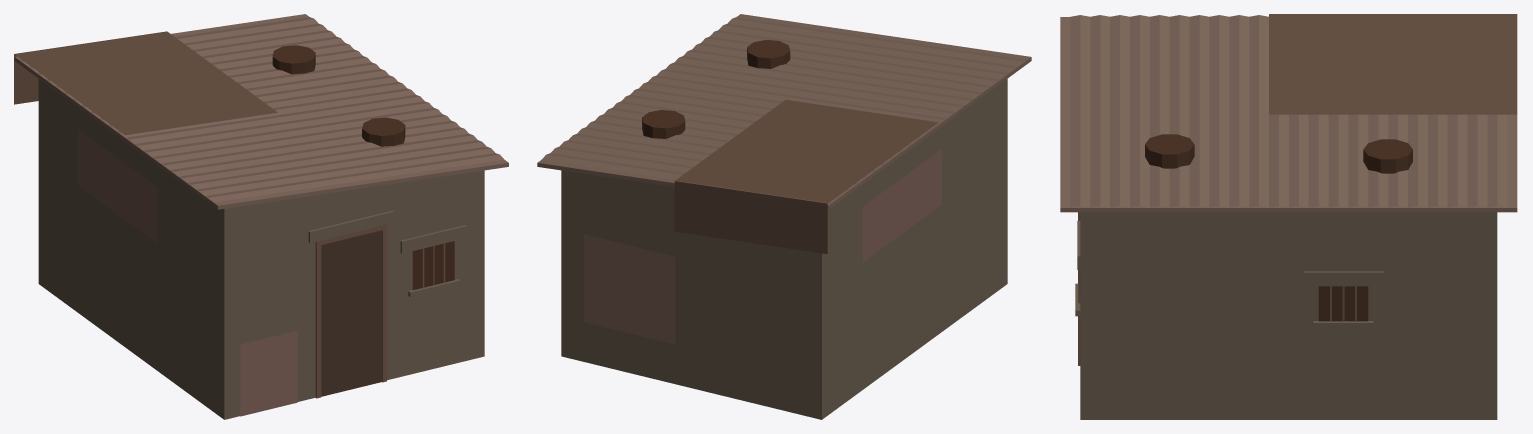
Rendered from fill2_close.fbx.
The picture shows the model from 3 angles, left to right: view 1: azimuth 30°, elevation 25°; view 2: azimuth 150°, elevation 25°; view 3: azimuth 270°, elevation 25°; orthographic projection. The views are drawn at different scales.
Parts seen in each view (by area): view 1: a2014/0/fill2_close; view 2: a2014/0/fill2_close; view 3: a2014/0/fill2_close.
Boxes of the visible parts, left/top/right/bottom form: a2014/0/fill2_close: left=14, top=14, right=508, bottom=419; a2014/0/fill2_close: left=537, top=14, right=1031, bottom=419; a2014/0/fill2_close: left=1060, top=14, right=1517, bottom=419.
Bounding box in the file's own units: 3.8 × 2.83 × 4.61.
